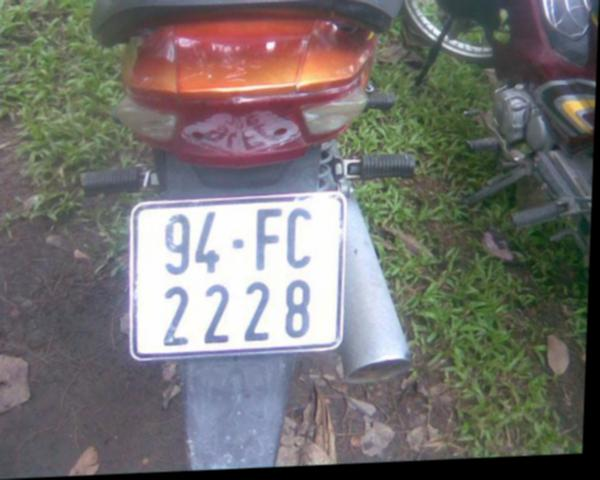License_Plate: (127, 193, 349, 358)
